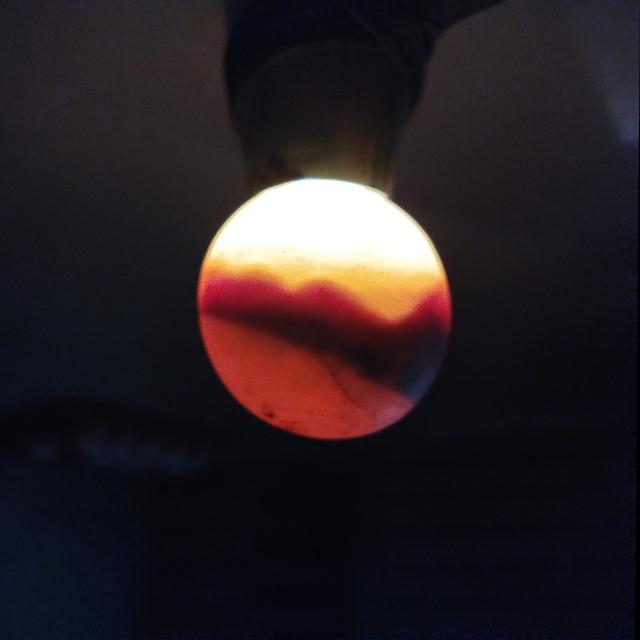Area Infectada: (209, 303, 455, 409)
